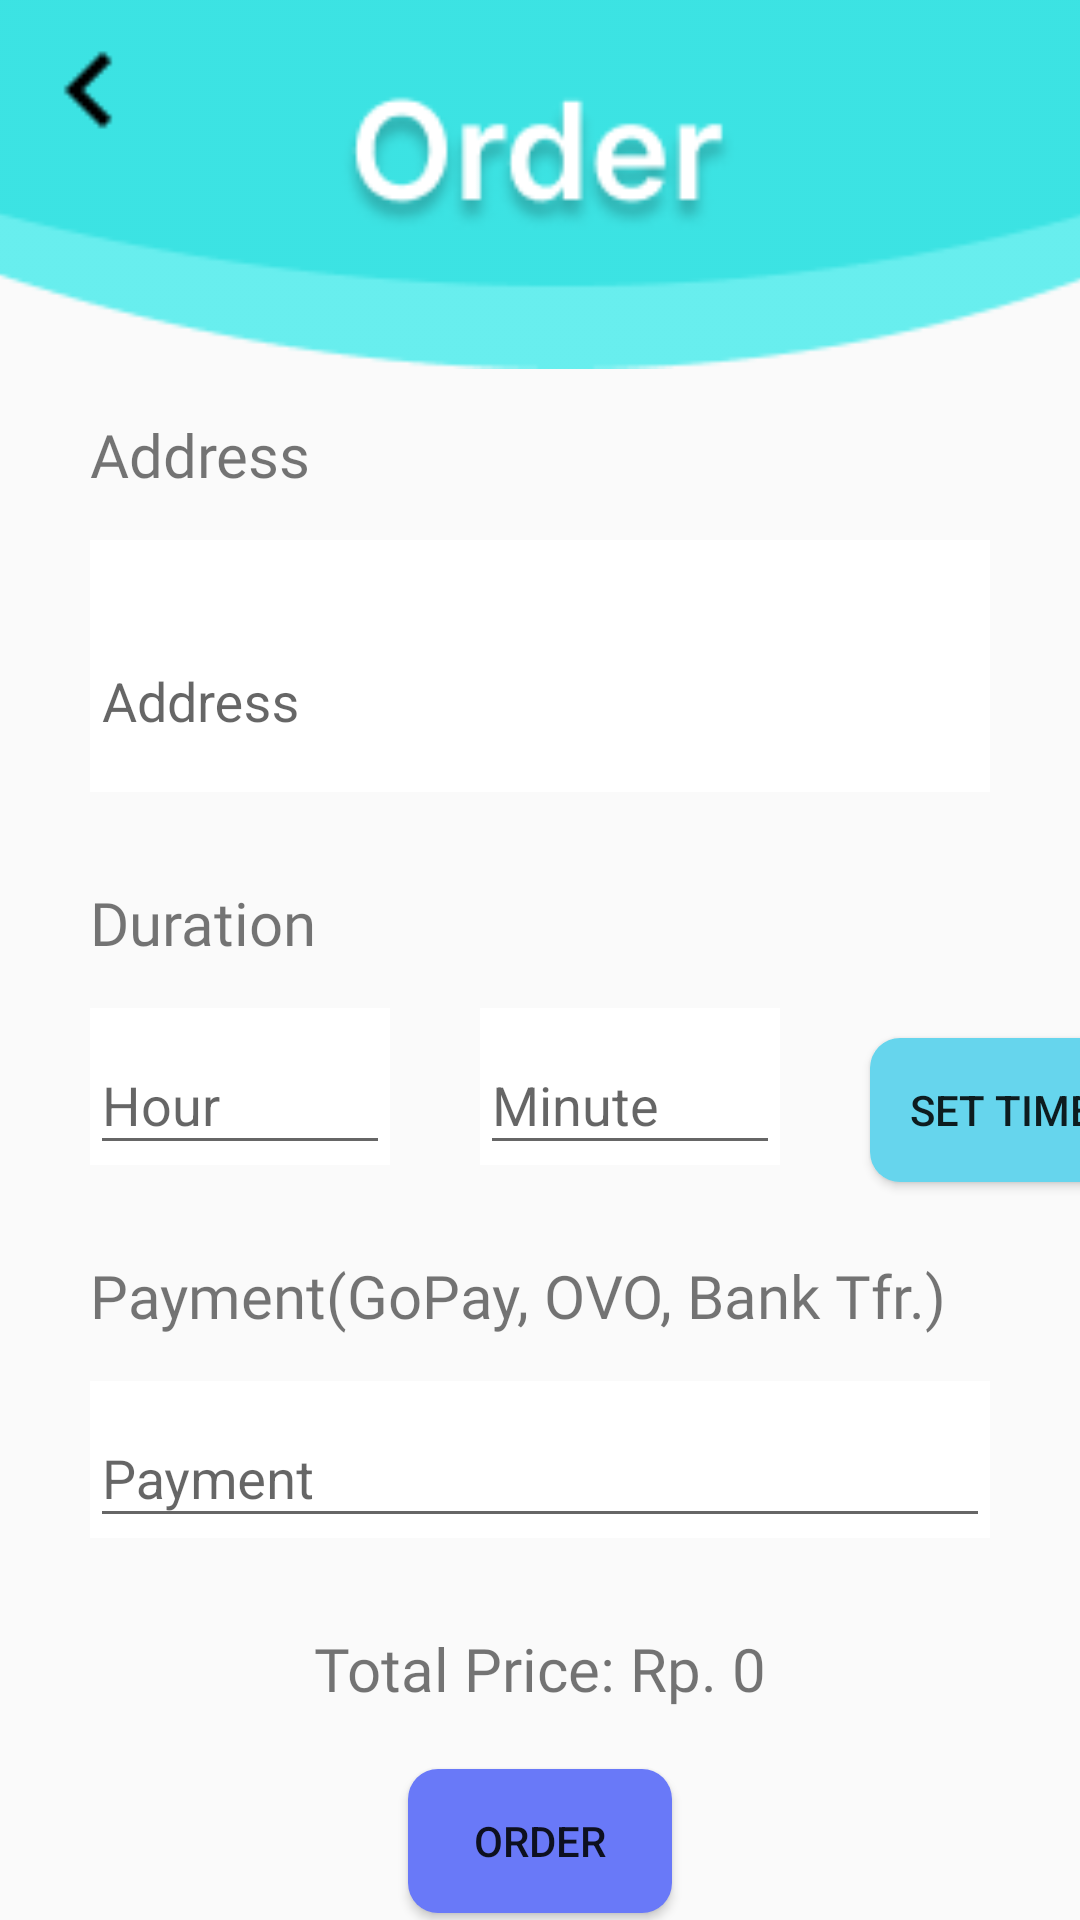

Icon click points for this 1080w x 1920h phone screenshot, format [x,y]:
chevron left: [88,90]
